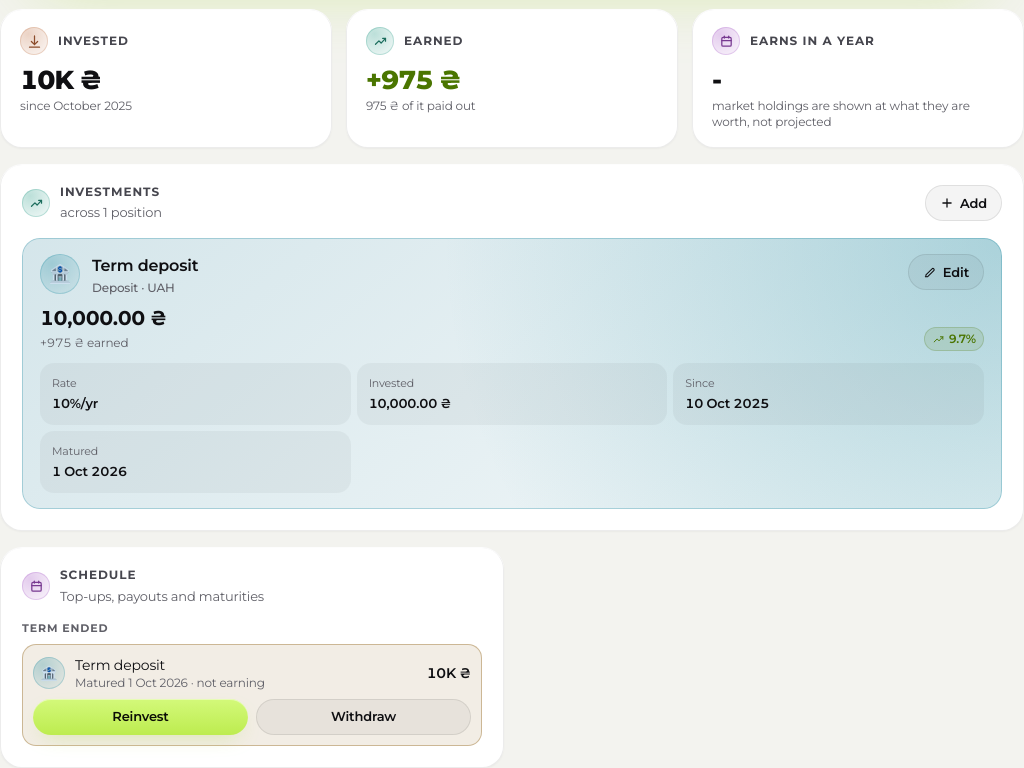
Test case: InvestmentsPage › opens an ended term for reinvesting
The width and height of the screenshot is (1024, 768).
(page scrolled)
Step 1. Click the button "Reinvest" → (140, 717), box [33,699,248,735]
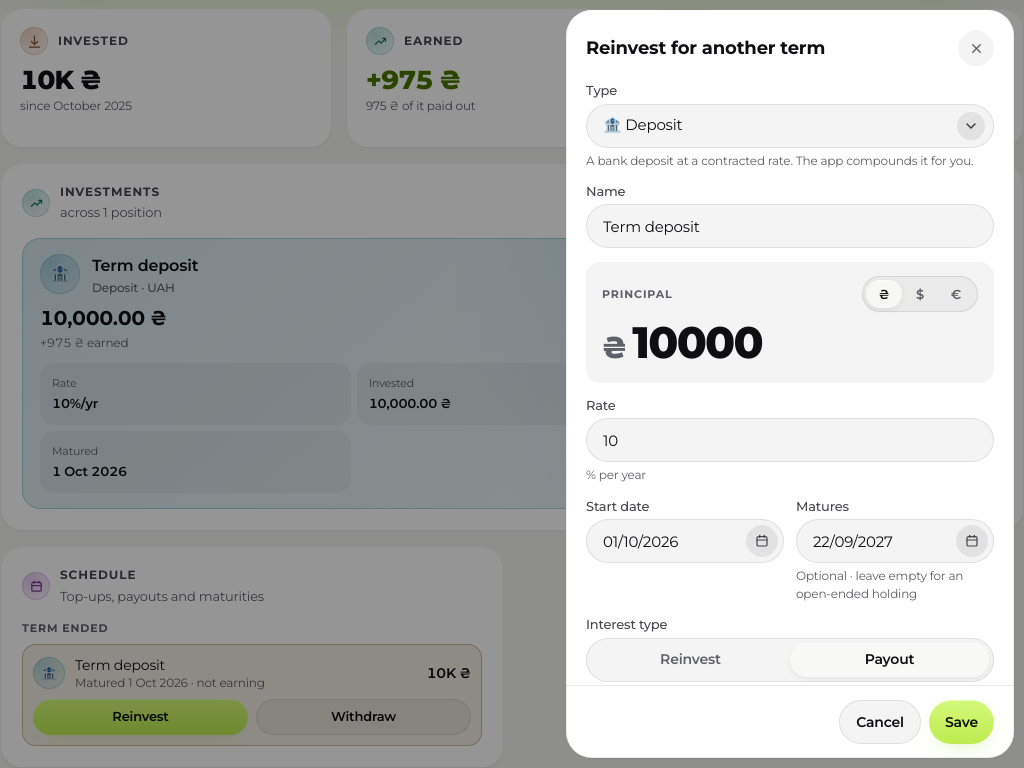
Result: the dialog "Reinvest for another term" is shown at [566,10,1014,758]
